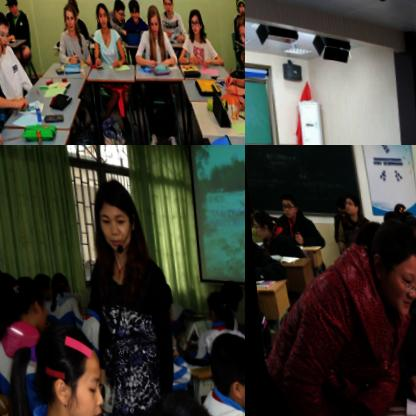head: (28, 321, 102, 416), (360, 213, 416, 318), (127, 376, 230, 416), (202, 331, 245, 413), (89, 179, 139, 246), (4, 276, 46, 334), (200, 286, 229, 327), (214, 276, 241, 310), (46, 269, 69, 302), (140, 0, 160, 36), (29, 268, 50, 301), (249, 210, 271, 240), (229, 5, 245, 46), (182, 3, 202, 35), (277, 193, 298, 222), (0, 277, 15, 316), (58, 2, 76, 32), (90, 0, 106, 28), (402, 209, 416, 241), (237, 33, 245, 83), (342, 192, 358, 217), (332, 194, 349, 217), (122, 0, 138, 21), (108, 0, 121, 21), (0, 9, 7, 47), (1, 0, 17, 16), (62, 0, 77, 17), (156, 0, 171, 15), (229, 0, 243, 13)
